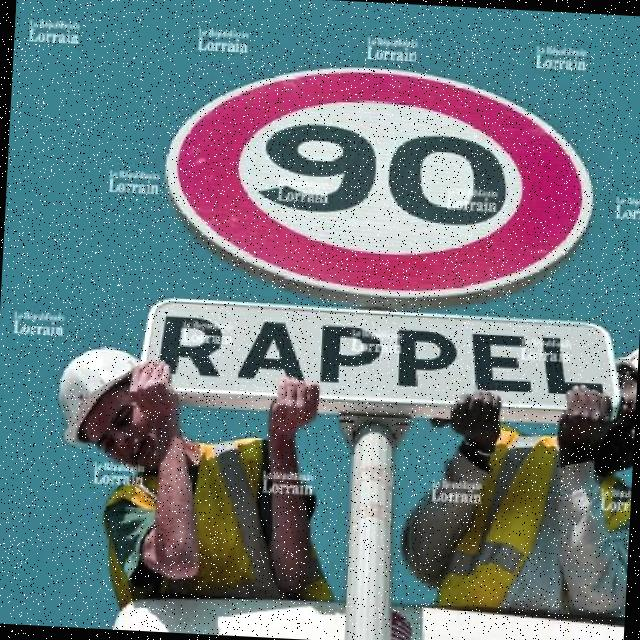Ograniczenie predkosci do 90: (162, 58, 598, 312)
